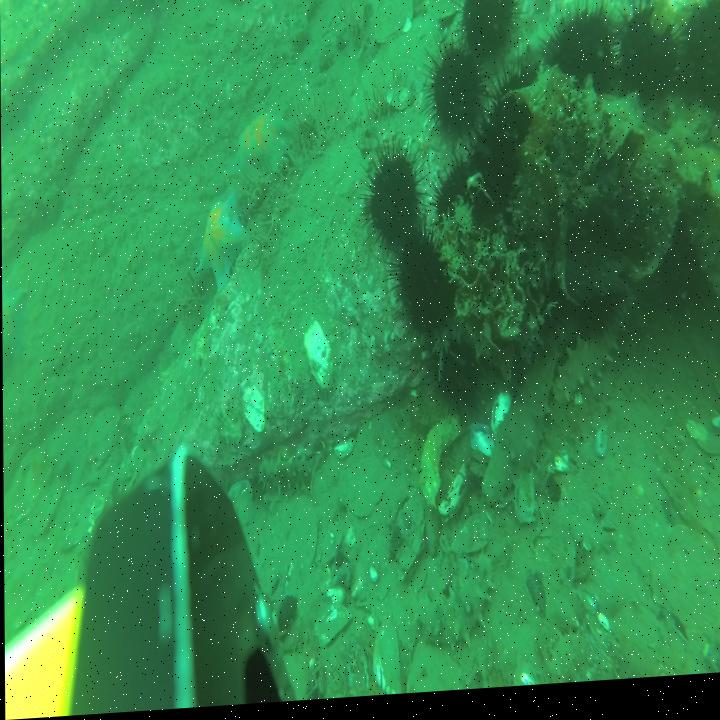echinus: (540, 2, 621, 119), (360, 137, 429, 269), (421, 34, 491, 159), (616, 0, 687, 122), (392, 227, 457, 355), (487, 55, 550, 173), (431, 329, 487, 435), (468, 118, 522, 226), (455, 0, 528, 79), (663, 220, 714, 328), (680, 0, 720, 133), (568, 257, 621, 353), (517, 250, 568, 347), (436, 156, 484, 256)
holothurian: (479, 342, 560, 517), (553, 283, 641, 413), (505, 4, 630, 76), (410, 559, 495, 663), (548, 629, 615, 691), (257, 450, 327, 502)
scallop: (651, 531, 720, 652), (31, 557, 78, 634), (84, 405, 119, 473), (374, 0, 415, 51)
starfish: (197, 195, 246, 303), (225, 112, 293, 188), (2, 277, 29, 379)
